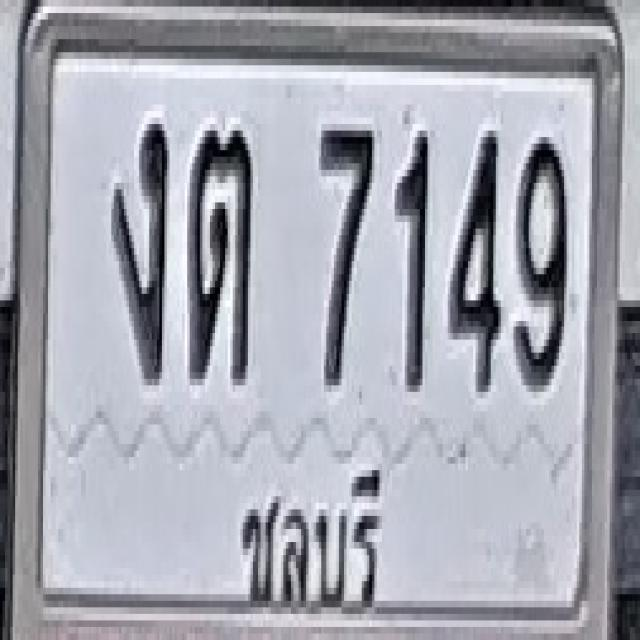-: (188, 124, 252, 385), (113, 118, 168, 378)
1: (396, 124, 429, 392)
4: (448, 124, 501, 392)
7: (319, 124, 374, 385)
9: (514, 134, 566, 388)
CBI: (226, 443, 394, 631)
